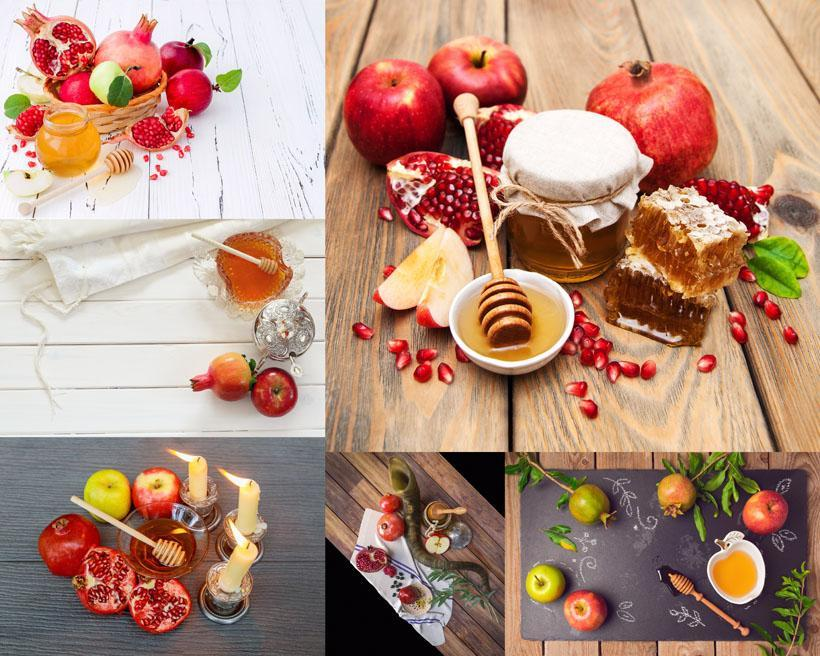apple: (343, 59, 443, 167), (428, 34, 529, 107), (131, 466, 179, 517), (250, 368, 296, 418), (165, 69, 211, 114), (742, 489, 788, 534), (564, 591, 608, 633)
